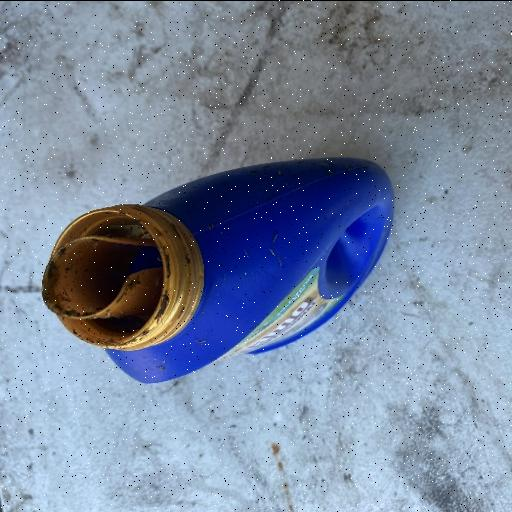Plastic: (39, 152, 397, 386)
